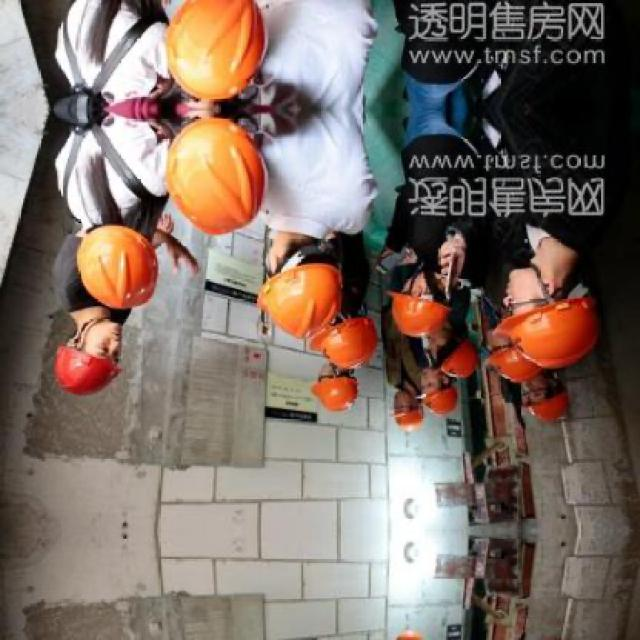con casco: (137, 126, 280, 268), (59, 210, 182, 334), (478, 270, 595, 380), (255, 232, 349, 336), (51, 322, 136, 417), (300, 280, 374, 370), (401, 321, 502, 378), (378, 262, 450, 328), (462, 311, 521, 389), (314, 354, 362, 416), (497, 381, 559, 424), (364, 392, 418, 436), (420, 365, 453, 412)
